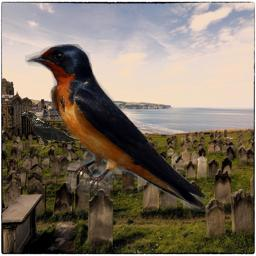Crow: (21, 111, 80, 151)
Swallow: (25, 44, 207, 212)
